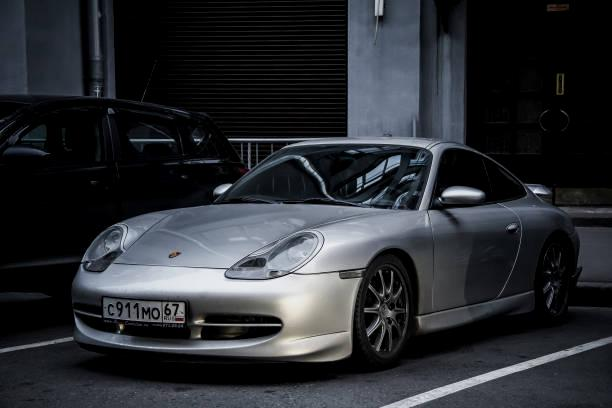porsche: (166, 246, 184, 262)
